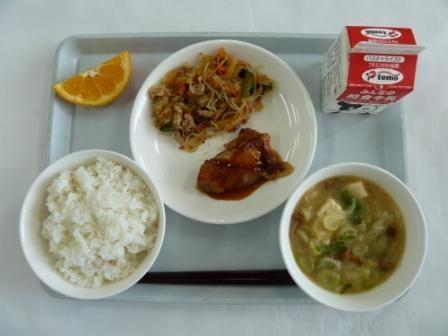Citrus: (47, 50, 142, 119)
Meat: (192, 132, 293, 205)
Milk: (313, 17, 427, 118)
Rice: (19, 151, 166, 292)
Soups: (287, 169, 429, 303)
salad with sauce: (143, 45, 276, 137)
